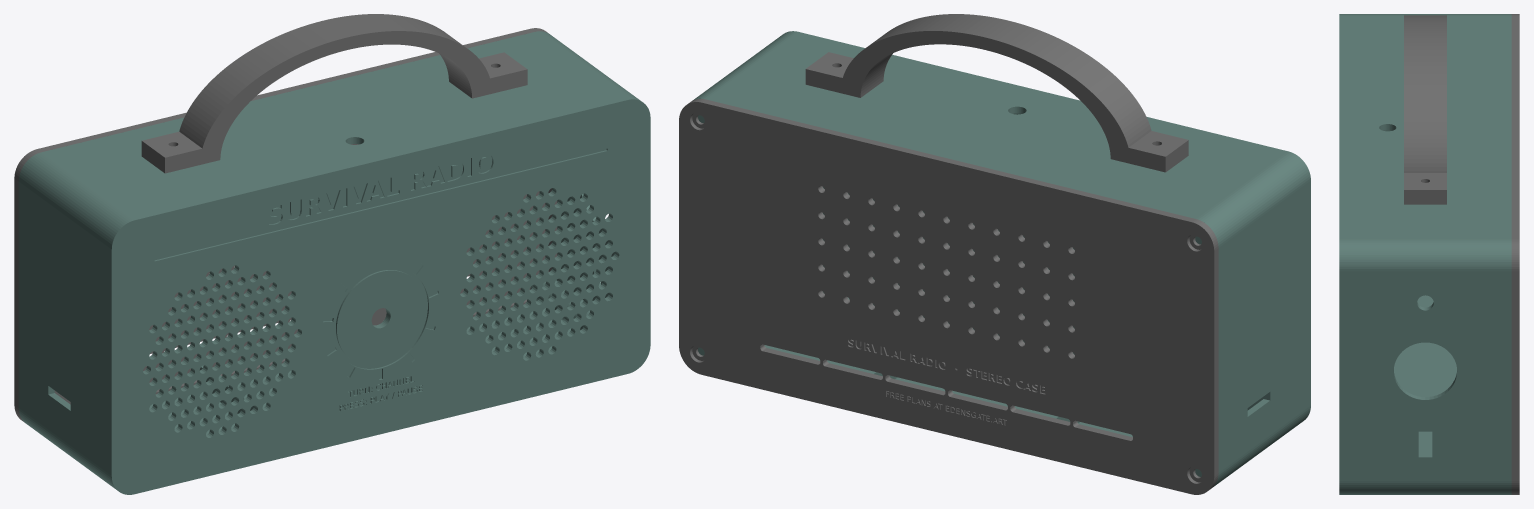
The model's file is stereo.glb.
3 views of the same model, side by side, from view 1: azimuth 30°, elevation 25°; view 2: azimuth 150°, elevation 25°; view 3: azimuth 270°, elevation 25° (orthographic). The views are drawn at different scales.
Visible parts, largest first — view 1: geometry_0, geometry_2, geometry_1; view 2: geometry_1, geometry_0, geometry_2; view 3: geometry_0, geometry_2, geometry_1.
Part boxes in pixels (x1,y1,x2,y2): geometry_0: [18, 31, 650, 494]; geometry_2: [141, 14, 527, 173]; geometry_1: [14, 28, 557, 422]; geometry_1: [679, 98, 1218, 494]; geometry_0: [692, 31, 1310, 486]; geometry_2: [805, 14, 1188, 172]; geometry_0: [1339, 14, 1511, 494]; geometry_2: [1404, 15, 1446, 204]; geometry_1: [1511, 14, 1519, 494].
Bounding box in the file's own units: 0.214 × 0.1428 × 0.067.
